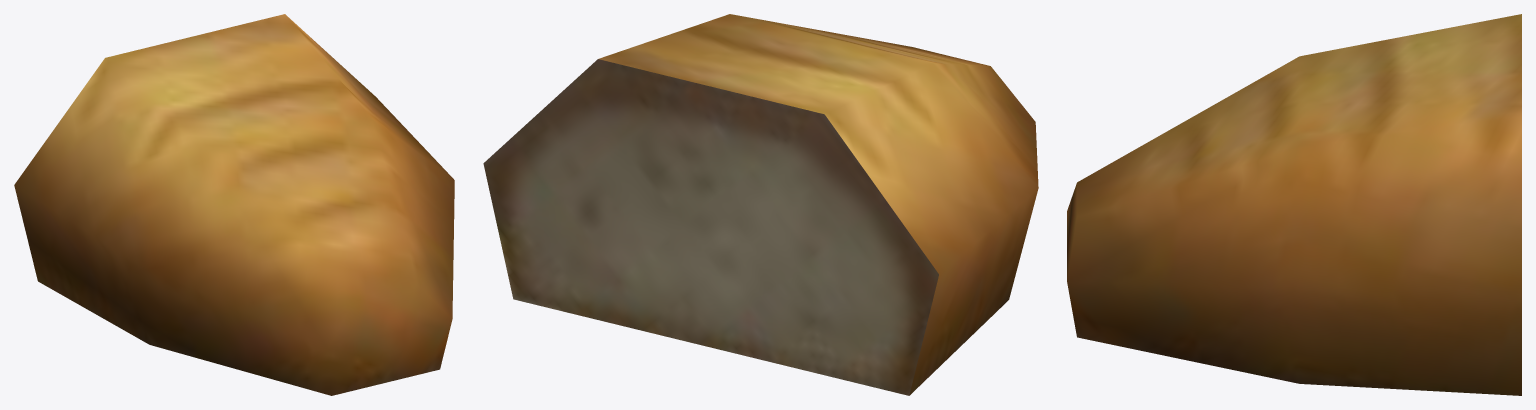
File: SM_bun_01.gltf
3 views of the same model, side by side, from view 1: azimuth 30°, elevation 25°; view 2: azimuth 150°, elevation 25°; view 3: azimuth 270°, elevation 25° (orthographic). The views are drawn at different scales.
Parts seen in each view (by area): view 1: SM_bun_01; view 2: SM_bun_01; view 3: SM_bun_01.
Part boxes in pixels (x1=…): SM_bun_01: x1=14, y1=14, x2=454, y2=395; SM_bun_01: x1=483, y1=14, x2=1038, y2=395; SM_bun_01: x1=1067, y1=14, x2=1521, y2=395.
Bounding box in the file's own units: 0.2784 × 0.1523 × 0.2601.
Materials: 1 (1 with a texture image).
